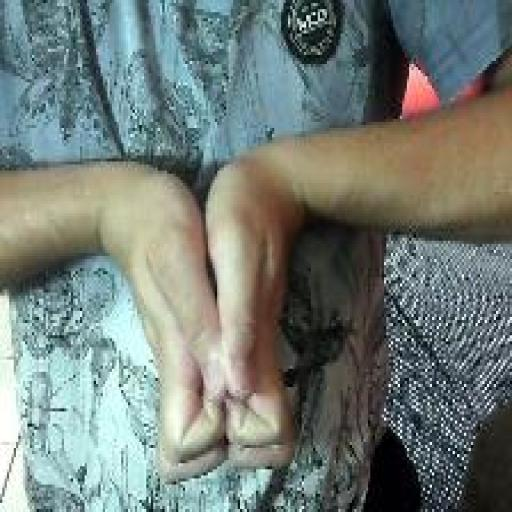I -boar-: (111, 149, 298, 488)
